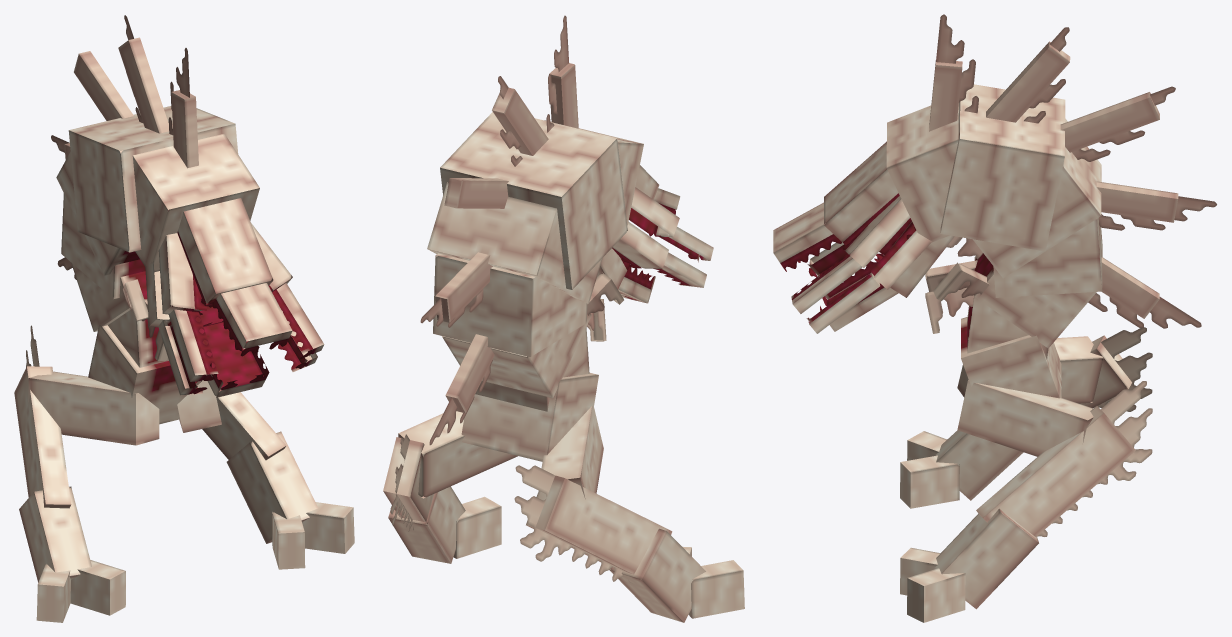
File: krake.obj
3 views of the same model, side by side, from view 1: azimuth 30°, elevation 25°; view 2: azimuth 150°, elevation 25°; view 3: azimuth 270°, elevation 25° (orthographic). The views are drawn at different scales.
Parts seen in each view (by area): view 1: Neck, LegRight, LegLeft, MouthTop01, Body, MouthTop02, MouthRight01, MouthRight02, MouthBottom02, Spike02, Spike01, MouthLeft02 (+3 smaller); view 2: Neck, LegRight, LegLeft, Body, MouthRight01, Spike05, Spike04, Spike02, Spike01, MouthRight02, Spike03, MouthBottom02 (+3 smaller); view 3: Neck, LegLeft, LegRight, Body, MouthTop01, Spike03, MouthLeft01, Spike02, Spike04, Spike01, Spike05, MouthLeft02 (+6 smaller).
Boxes of the visible parts, x1,y1,x2,y2 form: Neck: (56,106,259,331); LegRight: (14,325,159,622); LegLeft: (177,380,354,569); MouthTop01: (168,198,273,307); Body: (88,309,202,424); MouthTop02: (212,283,292,356); MouthRight01: (145,233,206,327); MouthRight02: (158,309,218,395); MouthBottom02: (199,322,269,397); Spike02: (118,15,168,133); Spike01: (168,48,198,168); MouthLeft02: (272,283,324,371); Neck: (427,112,643,398); LegRight: (514,406,744,622); LegLeft: (383,411,517,563); Body: (461,327,598,461); MouthRight01: (612,187,679,268); Spike05: (429,334,494,445); Spike04: (420,252,492,327); Spike02: (492,76,548,166); Spike01: (546,15,578,132); MouthRight02: (653,226,713,287); Spike03: (444,178,508,208); MouthBottom02: (618,266,655,303); Neck: (886,84,1102,348); LegLeft: (900,380,1152,622); LegRight: (900,327,1152,508); Body: (961,269,1061,398); MouthTop01: (824,141,899,245); Spike03: (1060,86,1175,161); MouthLeft01: (842,196,931,289); Spike02: (986,27,1070,123); Spike04: (1096,181,1216,230); Spike01: (929,14,978,131); Spike05: (1088,257,1201,328); MouthLeft02: (791,253,880,333).
Size of the model in its own units: 1.73 by 2.76 by 2.08.
